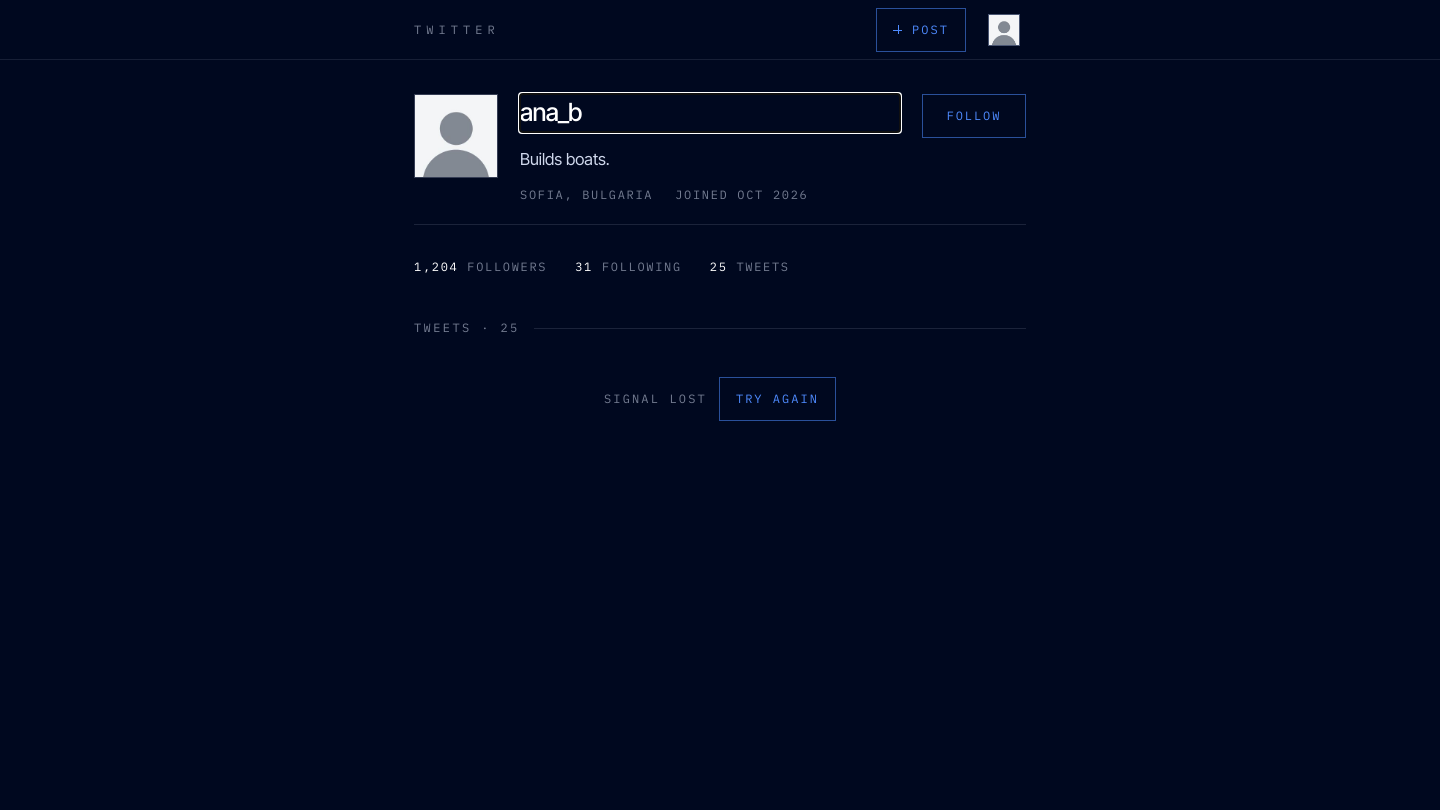
the tweets section › should_show_signal_lost_and_load_the_page_again_when_try_again_is_pressed
This screenshot has width=1440, height=810.
Expected: the text "SIGNAL LOST" is shown, [604, 390, 707, 408]
Click the button "TRY AGAIN": (778, 399) [719, 377, 836, 421]
Wait 1 ms
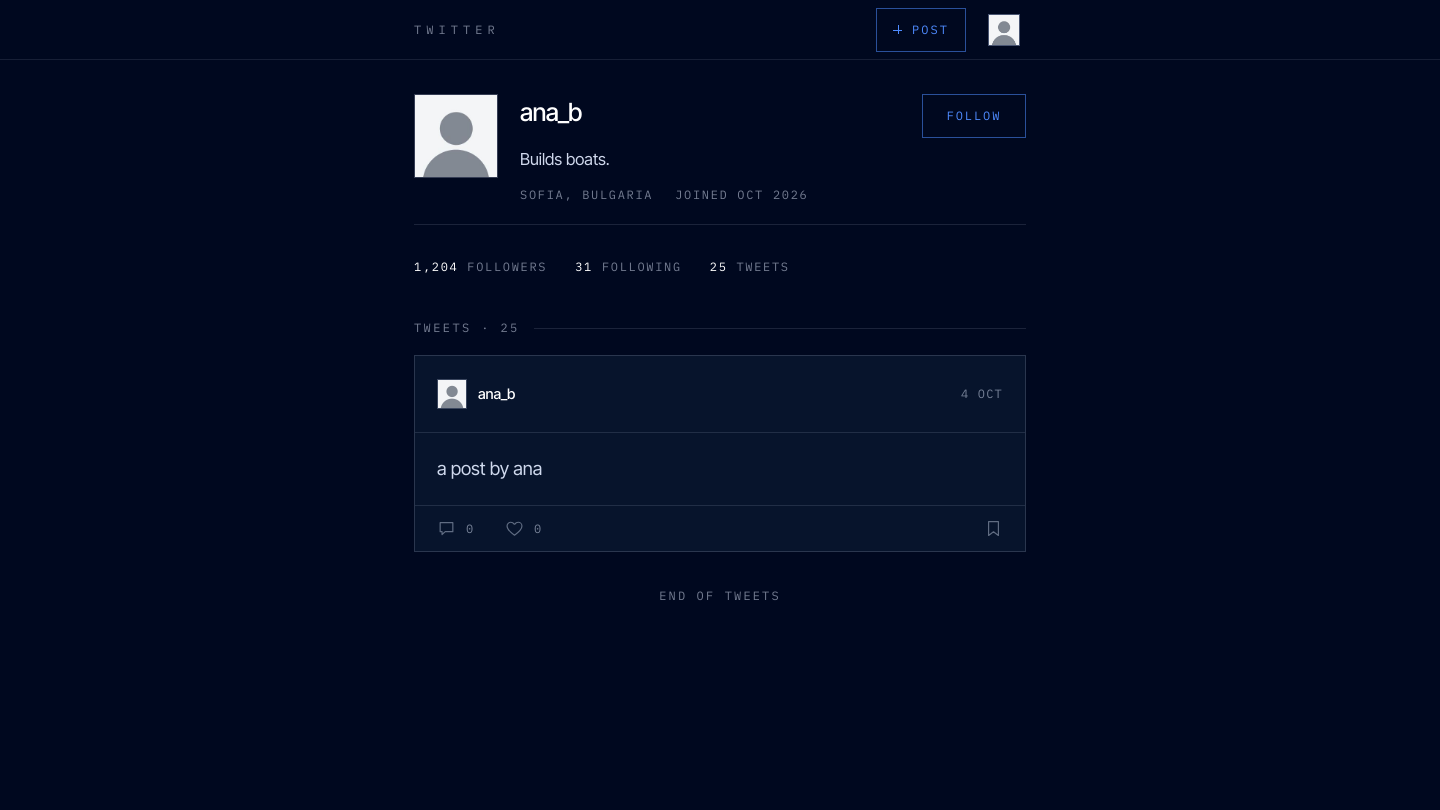
Expected: the text "a post by ana" is shown, [437, 457, 542, 479]
